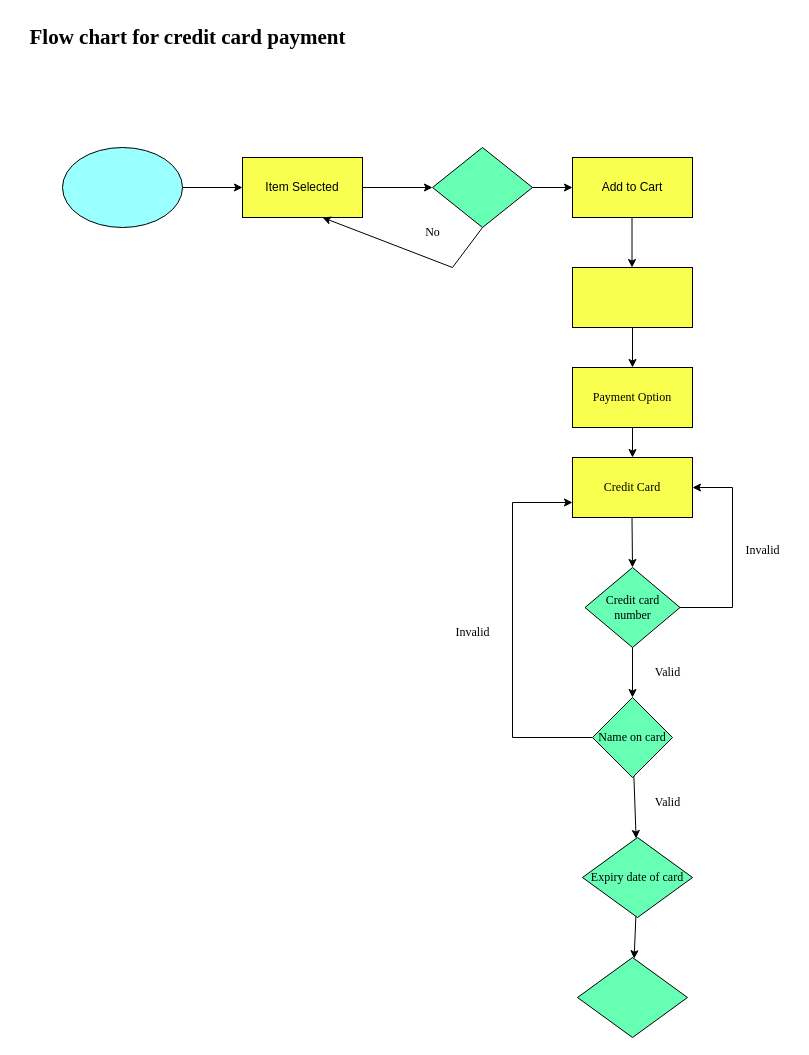
Some shapes in this 809 by 1055 pixel diagram are drawn without their labels. Here are the shapes that lost their labels. From the top down, the centre of each, then its label:
At [122,187]: "Start".
At [482,187]: "Item Available".
At [632,297]: "Place Order".
At [632,997]: "CVV number".
